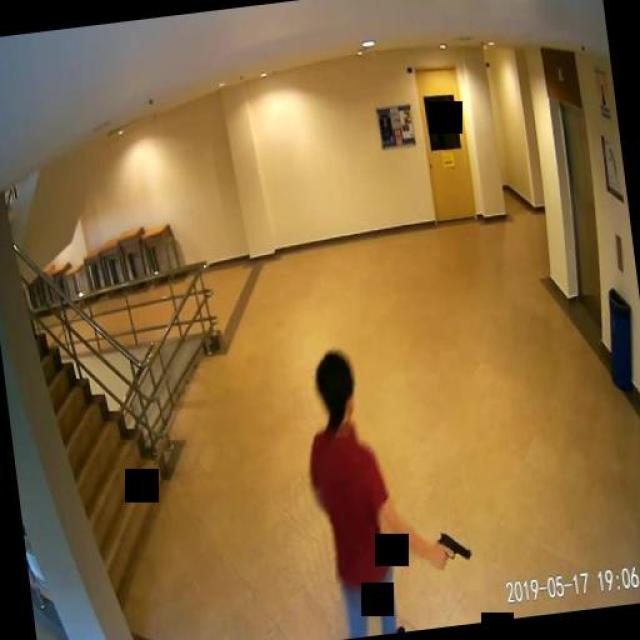gun: (434, 528, 471, 568)
